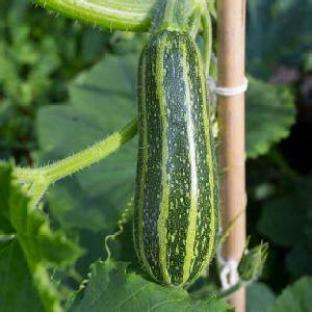Zucchini: (135, 31, 218, 284)
